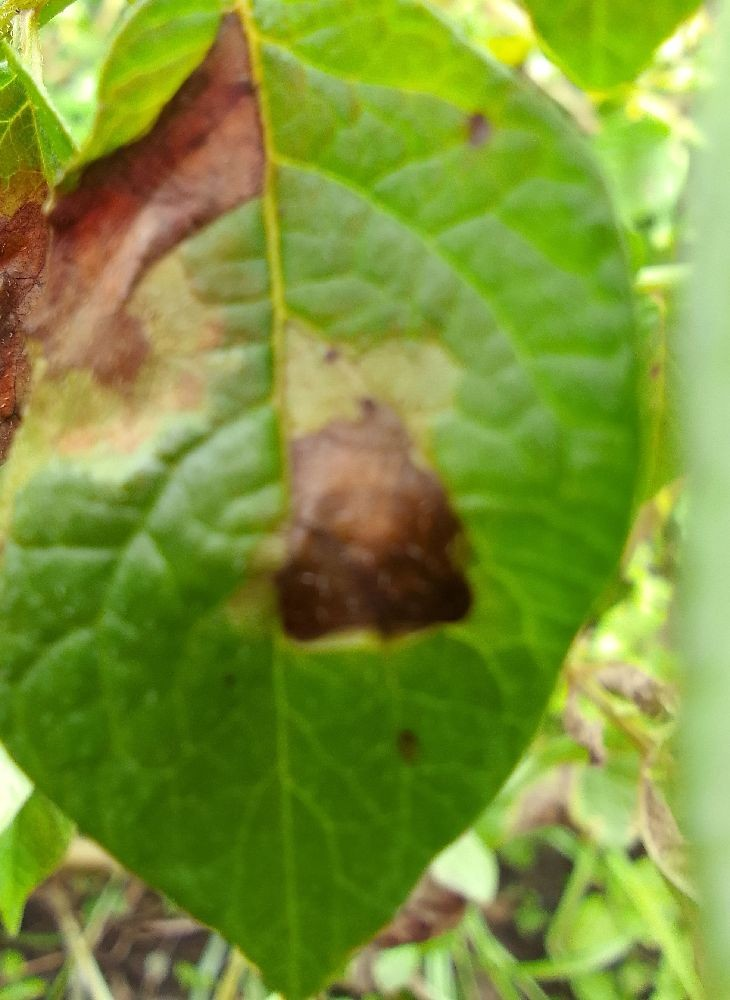late_blight: (0, 0, 298, 486), (180, 297, 517, 697), (0, 807, 239, 1000), (466, 825, 588, 975)
